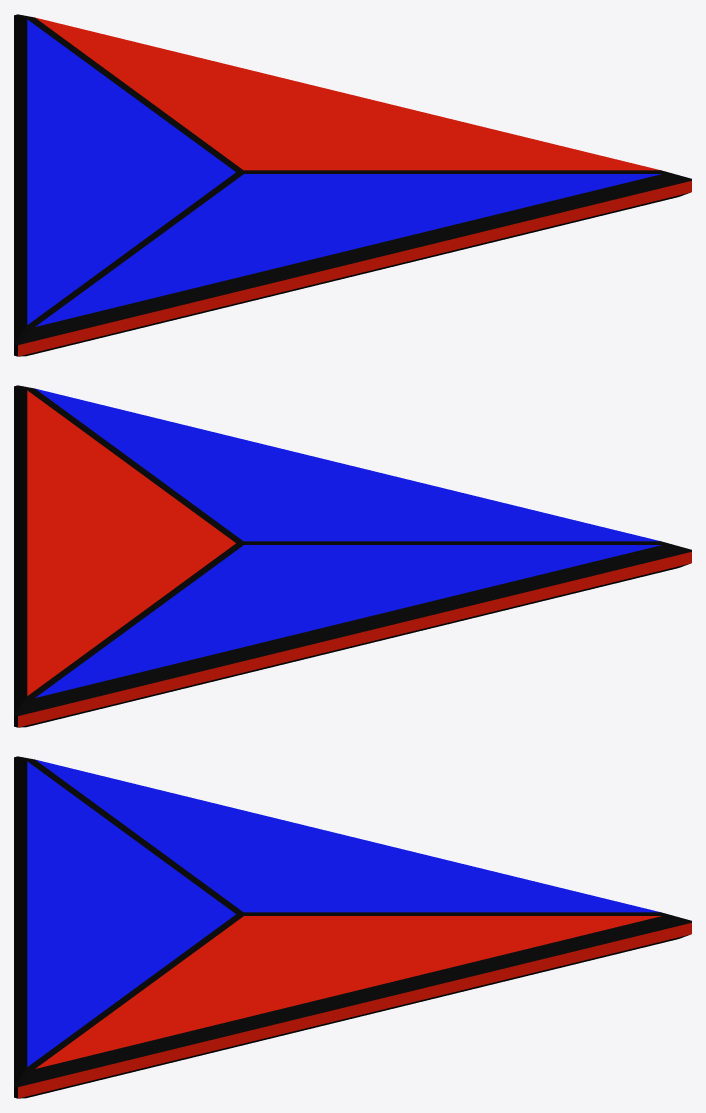
File: שני שליש.fbx
3 views of the same model, one above another, from view 1: azimuth 30°, elevation 25°; view 2: azimuth 150°, elevation 25°; view 3: azimuth 270°, elevation 25° (orthographic).
Visible parts, largest first — view 1: Circle; view 2: Circle; view 3: Circle.
Part boxes in pixels (<box>): Circle: <box>14,14,691,356</box>; Circle: <box>14,385,691,727</box>; Circle: <box>14,756,691,1098</box>.
Bounding box in the file's own units: 172 × 5.53 × 149.
